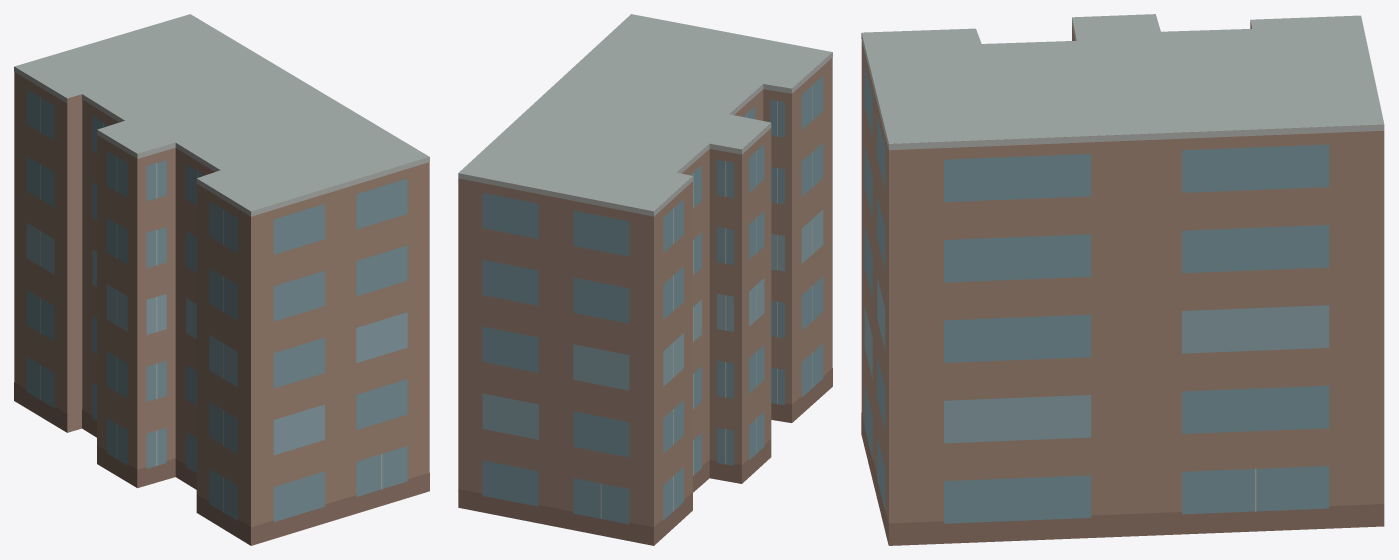
File: survey-upis-32636612.glb
3 renders of one model, left to right at view 1: azimuth 30°, elevation 25°; view 2: azimuth 150°, elevation 25°; view 3: azimuth 270°, elevation 25°, orthographic. The views are drawn at different scales.
Visible parts, largest first — view 1: survey-upis-32636612.tmp; view 2: survey-upis-32636612.tmp; view 3: survey-upis-32636612.tmp.
Boxes of the visible parts, x1,y1,x2,y2 form: survey-upis-32636612.tmp: [14, 14, 429, 545]; survey-upis-32636612.tmp: [458, 14, 832, 545]; survey-upis-32636612.tmp: [861, 14, 1384, 545].
Bounding box in the file's own units: 10.9 × 15.7 × 18.53.
